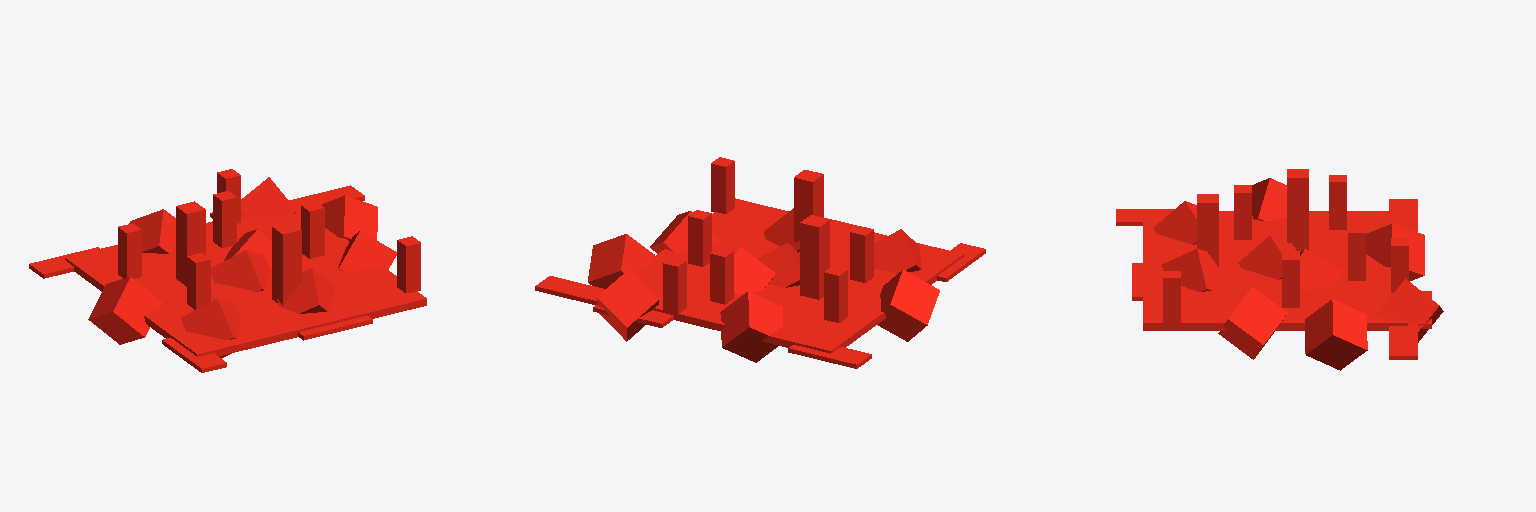
File: spiketile.obj
3 renders of one model, left to right at view 1: azimuth 30°, elevation 25°; view 2: azimuth 150°, elevation 25°; view 3: azimuth 270°, elevation 25°, orthographic.
Visible parts, largest first — view 1: MeshInstance3D; view 2: MeshInstance3D; view 3: MeshInstance3D.
Boxes of the visible parts, <box> form: MeshInstance3D: <box>29,169,426,372</box>; MeshInstance3D: <box>535,157,985,368</box>; MeshInstance3D: <box>1116,169,1443,370</box>.
Size of the model in its own units: 4.28 by 1.38 by 3.7.